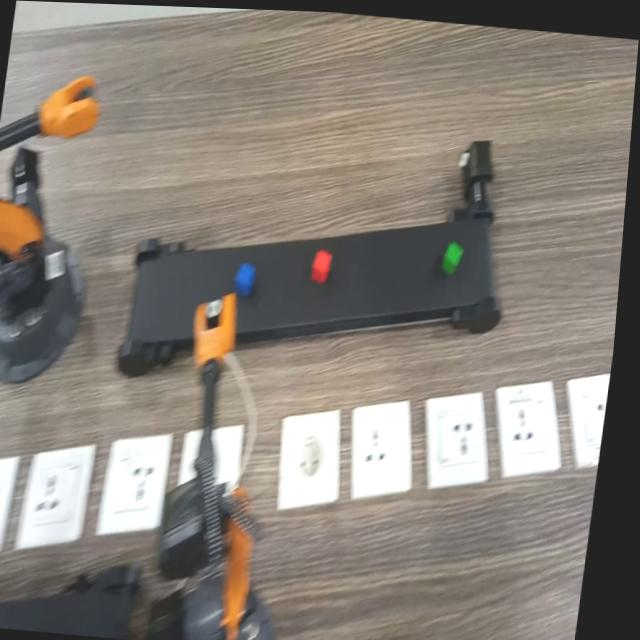cube: (310, 243, 339, 286), (444, 233, 471, 275), (237, 252, 262, 297)
